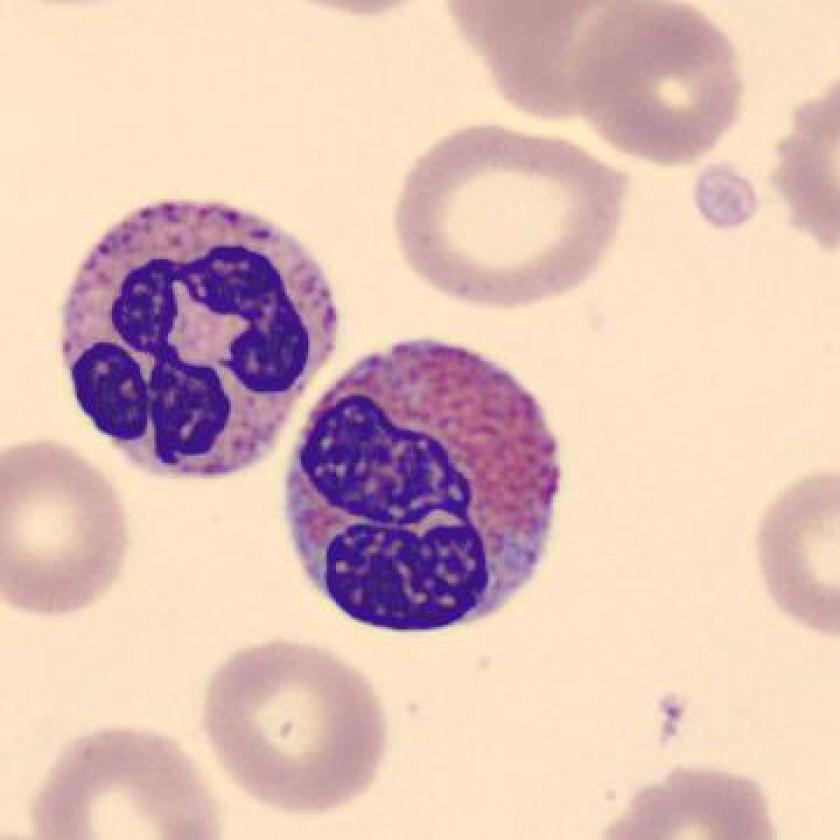eosinophil: (272, 332, 575, 649)
